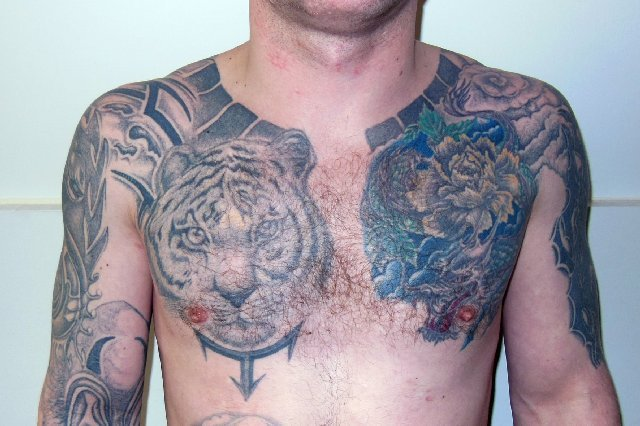tatu5_tigr: (133, 127, 337, 347)
